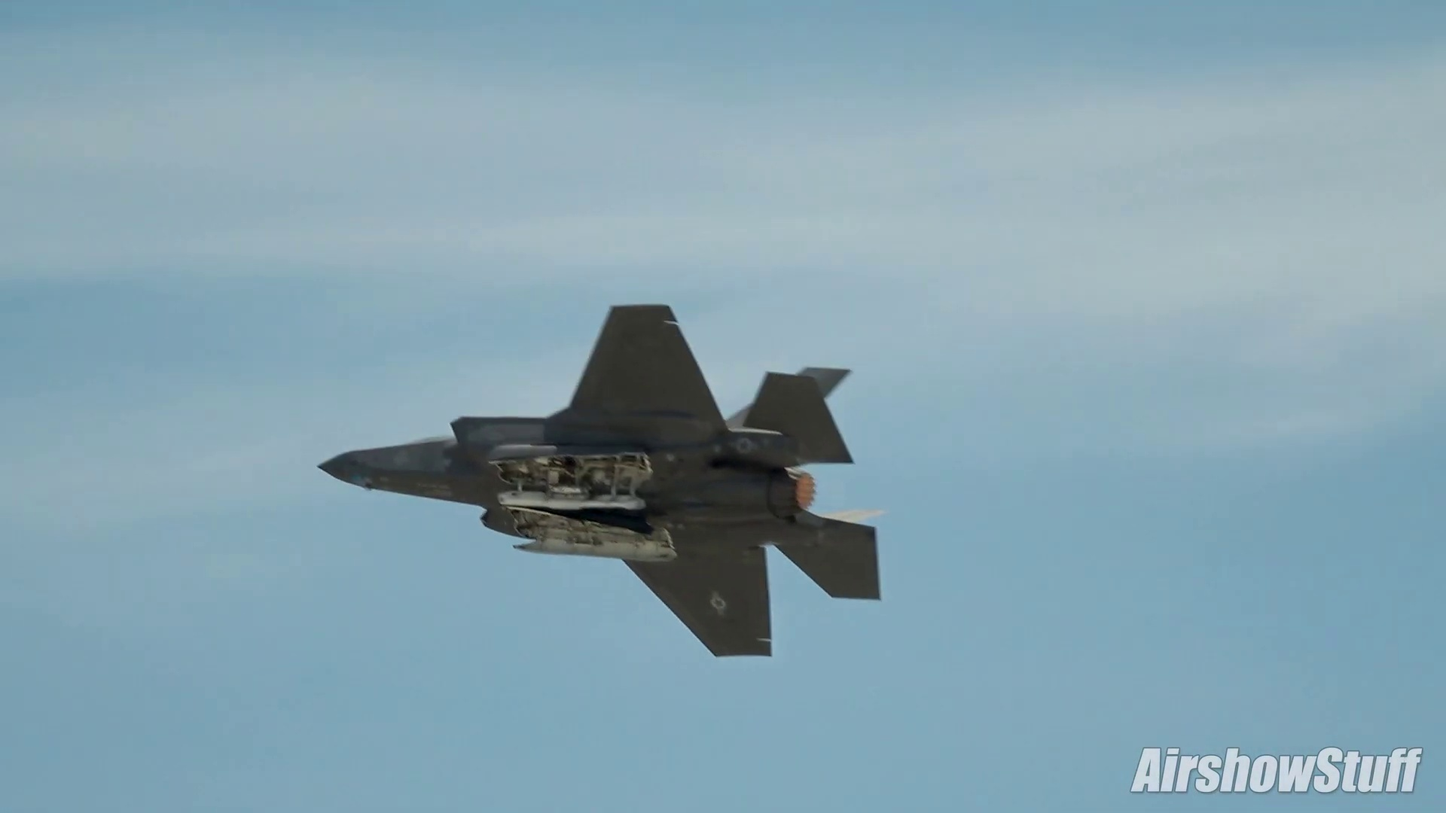F35: (309, 294, 892, 672)
